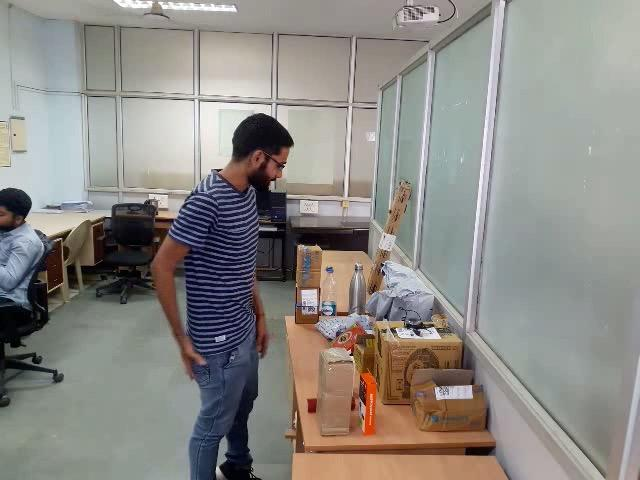shoplifting: (139, 311, 268, 406)
